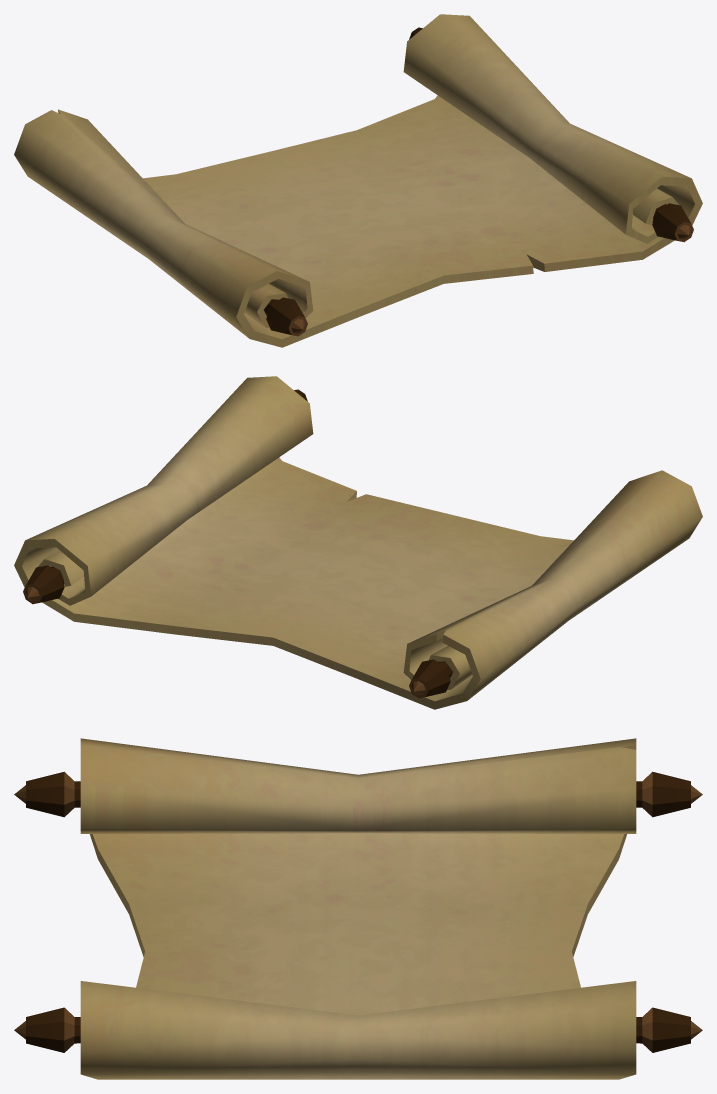
The model's file is SM_Scroll_01.fbx.
3 renders of one model, top to bottom at view 1: azimuth 30°, elevation 25°; view 2: azimuth 150°, elevation 25°; view 3: azimuth 270°, elevation 25°, orthographic. The views are drawn at different scales.
Parts seen in each view (by area): view 1: pCylinder2; view 2: pCylinder2; view 3: pCylinder2.
Part boxes in pixels (x1,y1,x2,y2): pCylinder2: [14, 14, 702, 347]; pCylinder2: [14, 376, 702, 709]; pCylinder2: [14, 738, 702, 1079].
Bounding box in the file's own units: 262 × 45.59 × 267.
